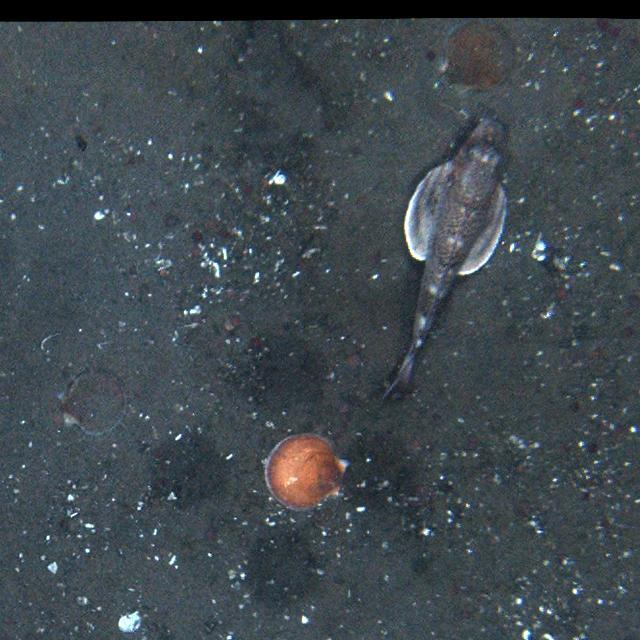roundfish: (370, 112, 511, 407)
